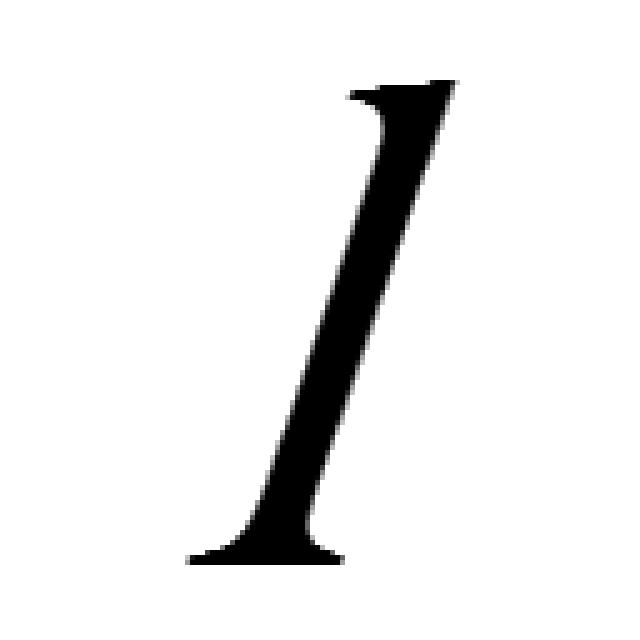L: (210, 78, 452, 566)
